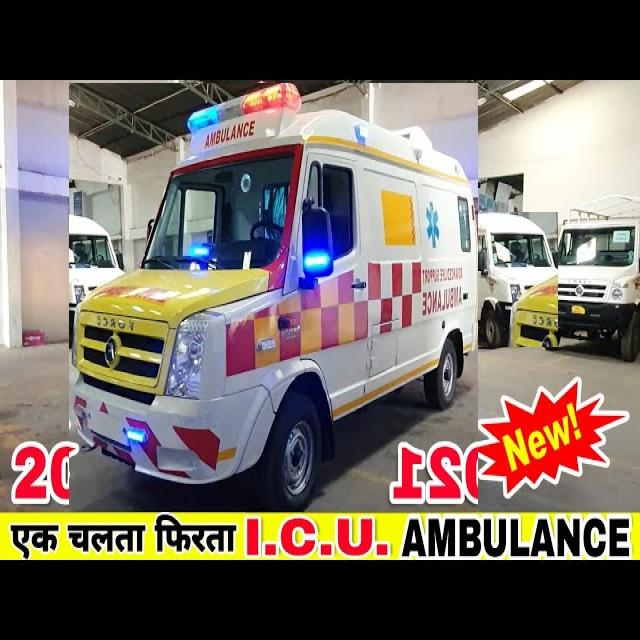emergency: (70, 83, 478, 512), (426, 213, 558, 347), (544, 195, 640, 362)
